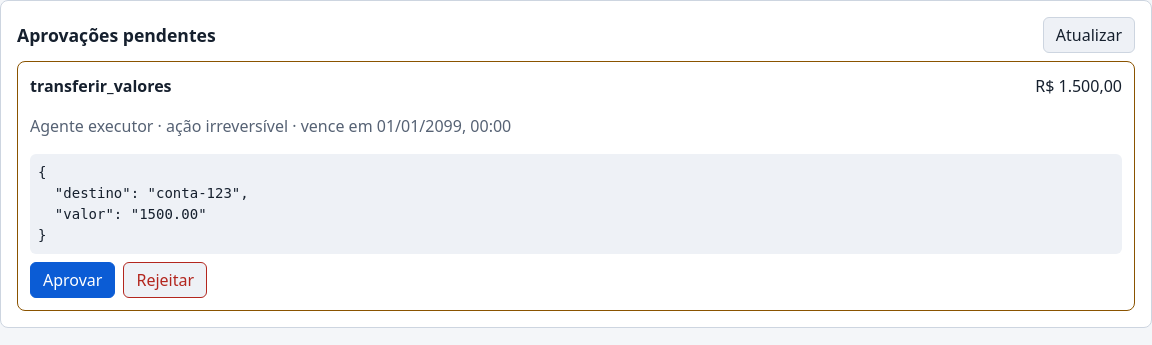
Test: InboxPanel › rejeitar manda { approved: false } e remove o item
What coordinates should you click on to do the following:
click the button "Rejeitar"
I would click on:
 (165, 280)
Its box is [123,262,207,298].
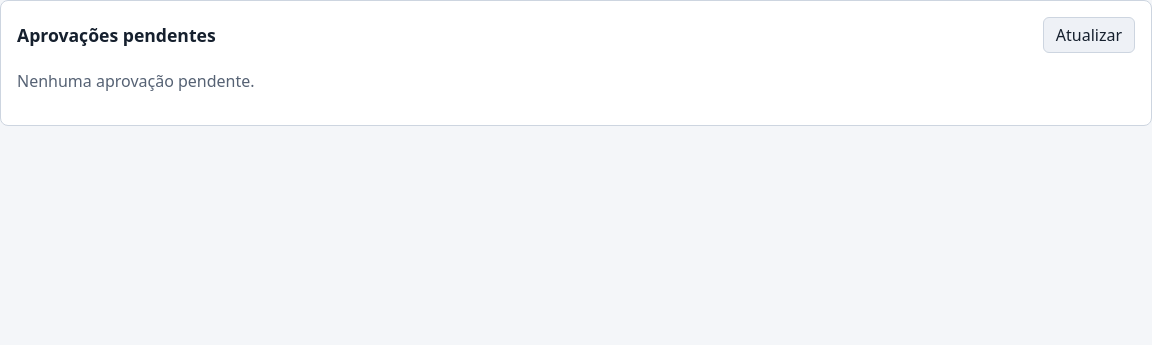
expect the list item is gone: met
